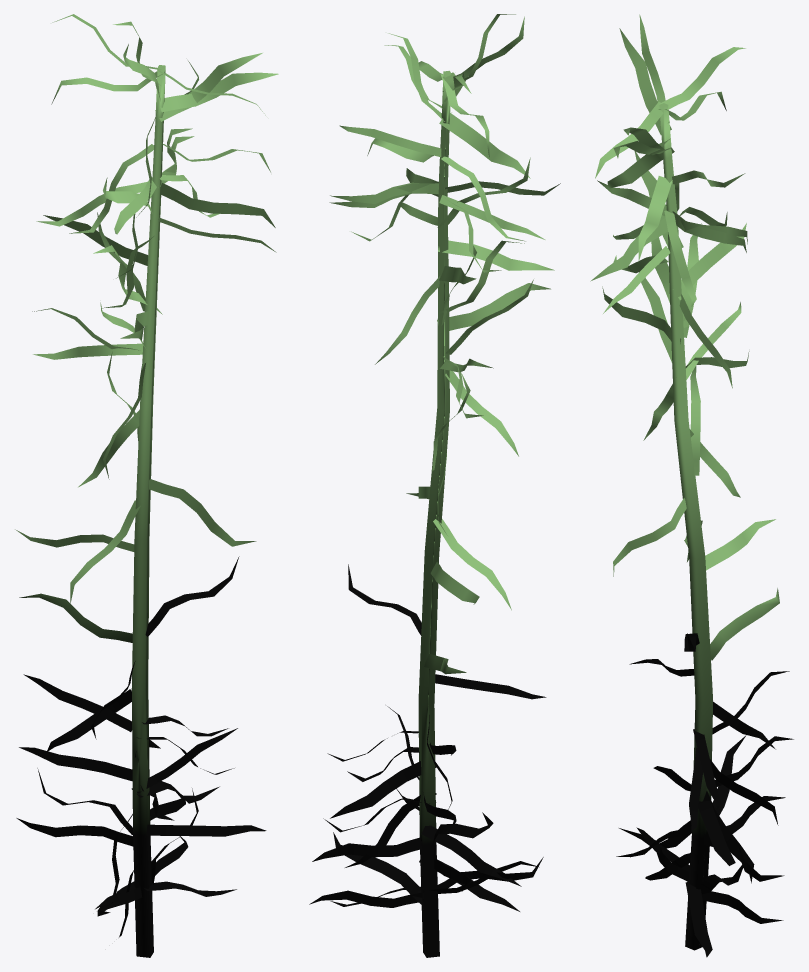
The model's file is alga.fbx.
3 renders of one model, left to right at view 1: azimuth 30°, elevation 25°; view 2: azimuth 150°, elevation 25°; view 3: azimuth 270°, elevation 25°, orthographic. The views are drawn at different scales.
Parts seen in each view (by area): view 1: Alga; view 2: Alga; view 3: Alga.
Boxes of the visible parts, x1=… form: Alga: x1=15, y1=14, x2=278, y2=957; Alga: x1=309, y1=14, x2=560, y2=957; Alga: x1=590, y1=14, x2=793, y2=957.
Size of the model in its own units: 52.91 by 256 by 52.68.
